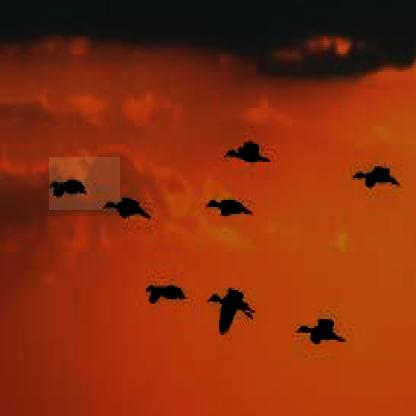bird: (49, 157, 120, 210)
